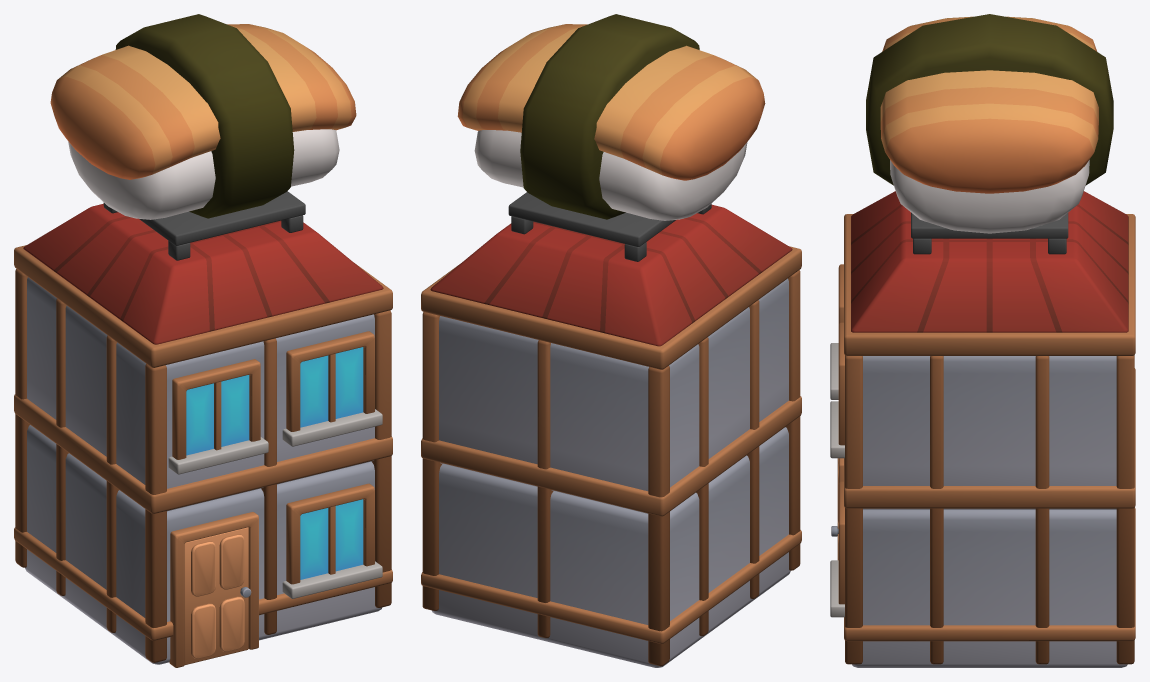
The model's file is mct_build_full_sushi.fbx.
The picture shows the model from 3 angles, left to right: view 1: azimuth 30°, elevation 25°; view 2: azimuth 150°, elevation 25°; view 3: azimuth 270°, elevation 25°; orthographic projection. The views are drawn at different scales.
Visible parts, largest first — view 1: mct_build_full_sushi, mct_build_full_sushi_door; view 2: mct_build_full_sushi; view 3: mct_build_full_sushi.
Part boxes in pixels (bbox=[...]): mct_build_full_sushi: bbox=[14, 14, 392, 667]; mct_build_full_sushi_door: bbox=[184, 527, 251, 665]; mct_build_full_sushi: bbox=[421, 14, 801, 667]; mct_build_full_sushi: bbox=[830, 14, 1135, 667].
Bounding box in the file's own units: 417 × 922 × 437.
